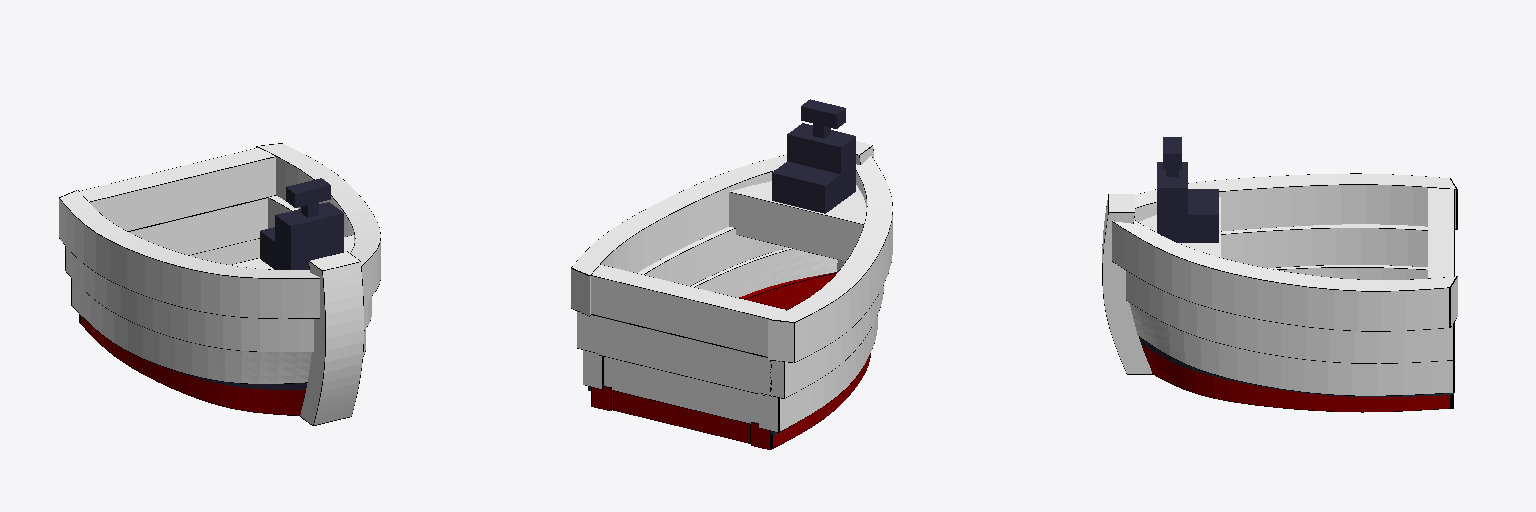
3 renders of one model, left to right at view 1: azimuth 30°, elevation 25°; view 2: azimuth 150°, elevation 25°; view 3: azimuth 270°, elevation 25°, orthographic.
Parts seen in each view (by area): view 1: Barco; view 2: Barco; view 3: Barco.
Part boxes in pixels (left/top/right/bottom): Barco: left=59, top=143, right=380, bottom=425; Barco: left=571, top=99, right=892, bottom=449; Barco: left=1102, top=137, right=1457, bottom=412.
Size of the model in its own units: 0.6197 by 0.5404 by 0.793.
Materials: 1 (1 with a texture image).